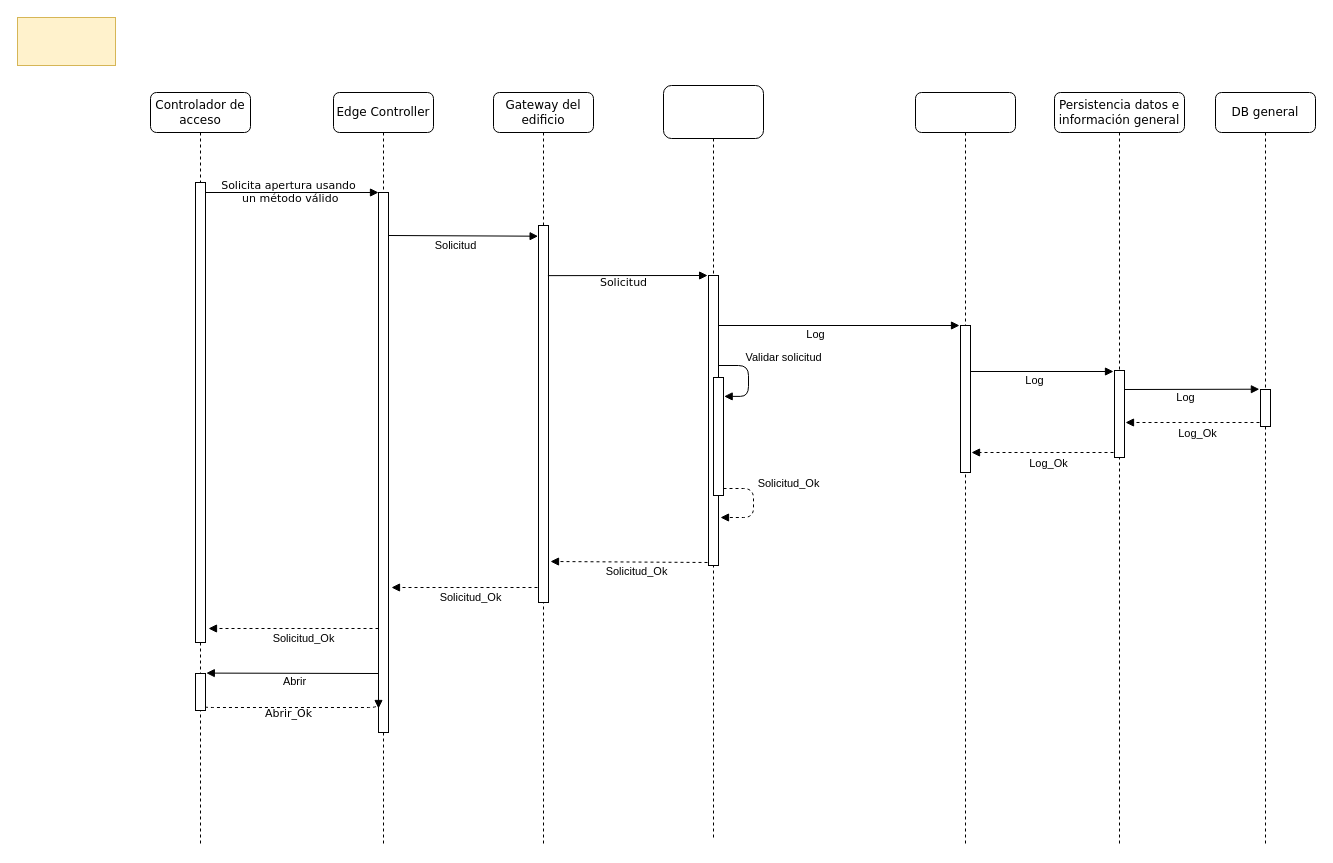
Image size: 1333x863. Some labels were removed from this diagram. The shapes that lost their labels are listed below. From the top down, each one's centre as x and y in pixels, then its label:
At pixel 66 41: "Secuencia - apertura local de puerta".
At pixel 713 461: "Gestor de info. para control de acceso".
At pixel 965 469: "Auditoría e historial".
